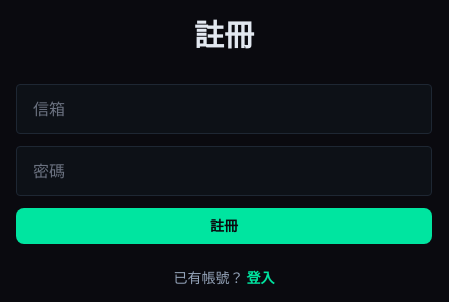
Scenario: SignupForm › after successful sign-up, replaces form with verification-sent message
Type "new@example.com" into the field with placeholder "信箱". click: (224,109)
box: [16, 84, 432, 134]
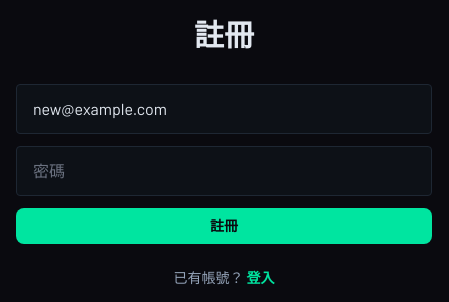
Type "pw123" into the password field with placeholder "密碼". click: (224,171)
box: [16, 146, 432, 196]
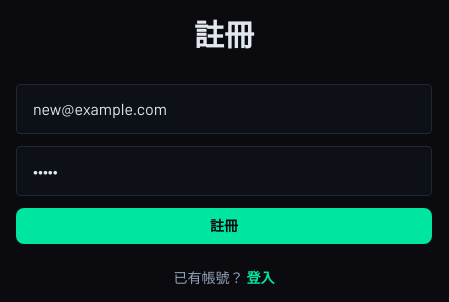
Click the button "註冊". click: (224,226)
box: [16, 208, 432, 244]
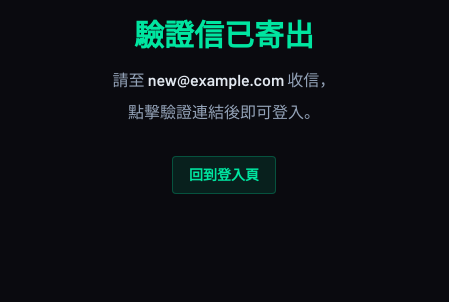
Check: the heading "驗證信已寄出" is shown, box [134, 16, 314, 52]
